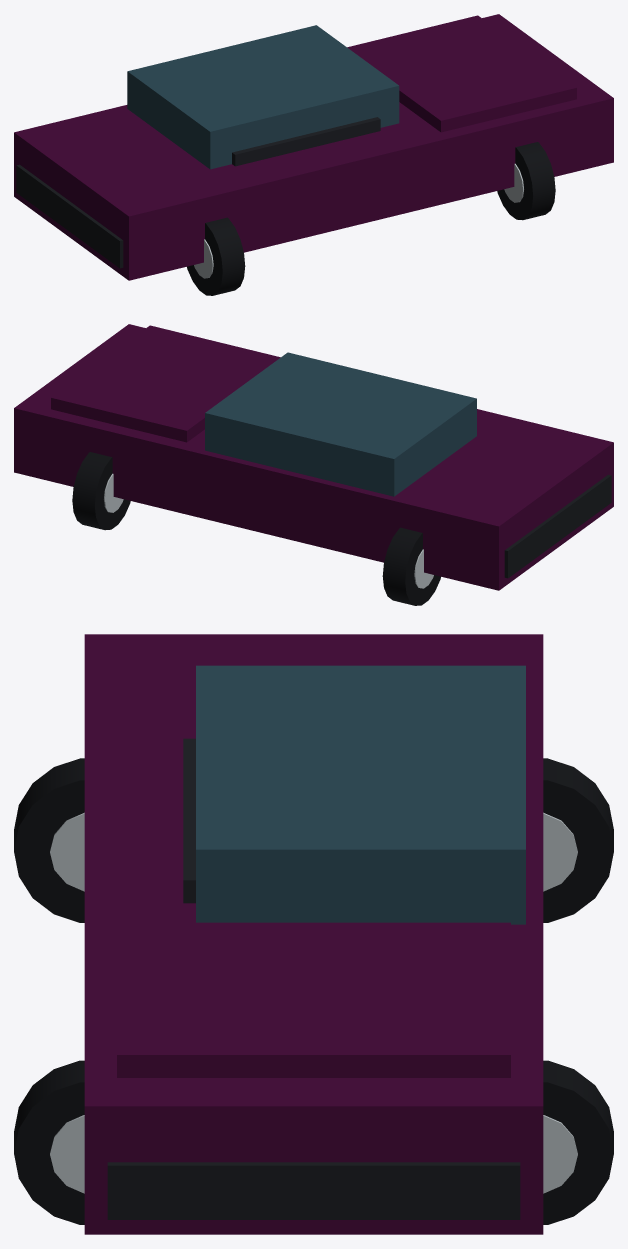
Rendered from chevy_corvette_e_ray.glb.
The picture shows the model from 3 angles, top to bottom: view 1: azimuth 30°, elevation 25°; view 2: azimuth 150°, elevation 25°; view 3: azimuth 270°, elevation 25°; orthographic projection. The views are drawn at different scales.
Parts seen in each view (by area): view 1: body, cabin, hood, rear_bumper, front_right_wheel, rear_right_wheel, interior; view 2: body, cabin, hood, rear_bumper, front_left_wheel, rear_left_wheel; view 3: body, cabin, hood, front_bumper, front_left_wheel, front_right_wheel, rear_left_wheel, rear_right_wheel, interior.
Boxes of the visible parts, x1,y1,x2,y2 form: body: (14,14,613,280); cabin: (127,25,399,169); hood: (347,15,576,132); rear_bumper: (16,164,123,268); front_right_wheel: (497,142,555,220); rear_right_wheel: (187,217,245,295); interior: (232,117,380,166); body: (14,324,613,590); cabin: (205,352,476,496); hood: (51,325,280,442); rear_bumper: (504,474,611,578); front_left_wheel: (72,452,130,530); rear_left_wheel: (382,527,440,605); body: (84,634,543,1234); cabin: (196,665,525,924); hood: (117,922,510,1077); front_bumper: (107,1162,520,1219); front_left_wheel: (543,1060,613,1224); front_right_wheel: (14,1060,84,1224); rear_left_wheel: (543,758,613,922); rear_right_wheel: (14,758,84,922); interior: (183,738,195,903).
Size of the model in its own units: 4.81 by 1.26 by 2.55.
